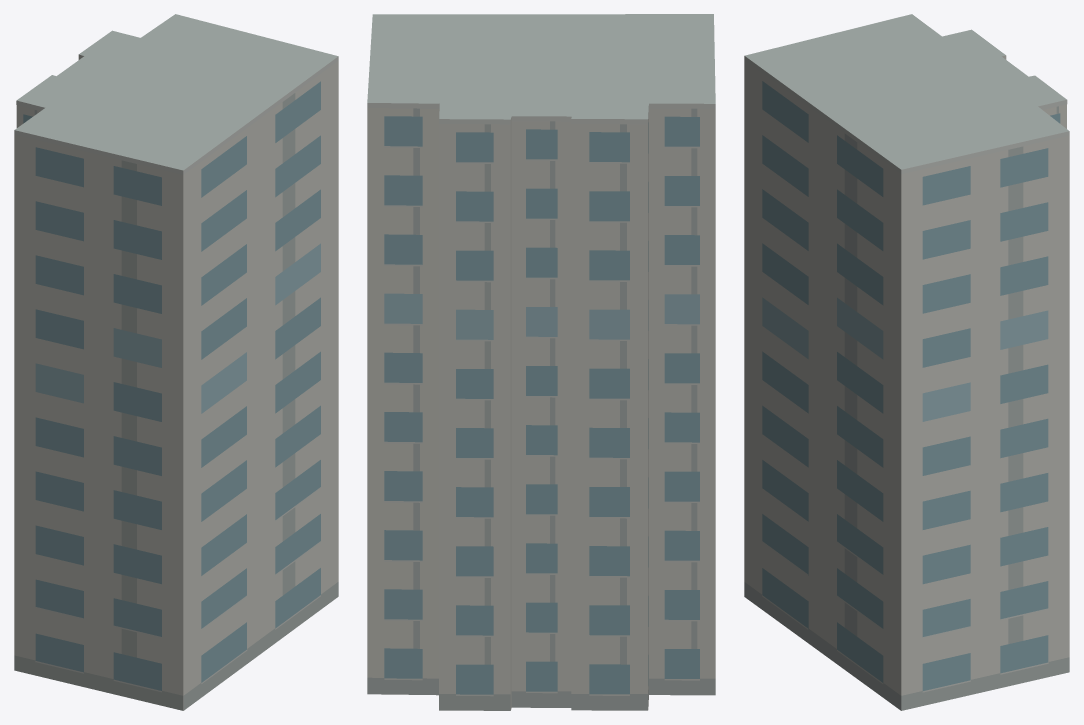
Rendered from survey-upis-32914173.glb.
The picture shows the model from 3 angles, left to right: view 1: azimuth 30°, elevation 25°; view 2: azimuth 150°, elevation 25°; view 3: azimuth 270°, elevation 25°; orthographic projection. The views are drawn at different scales.
Visible parts, largest first — view 1: survey-upis-32914173.tmp; view 2: survey-upis-32914173.tmp; view 3: survey-upis-32914173.tmp.
Part boxes in pixels (left/top/right/bottom): survey-upis-32914173.tmp: left=14, top=14, right=338, bottom=710; survey-upis-32914173.tmp: left=367, top=14, right=715, bottom=710; survey-upis-32914173.tmp: left=744, top=14, right=1069, bottom=710.
Bounding box in the file's own units: 17.67 × 28.6 × 15.58.
